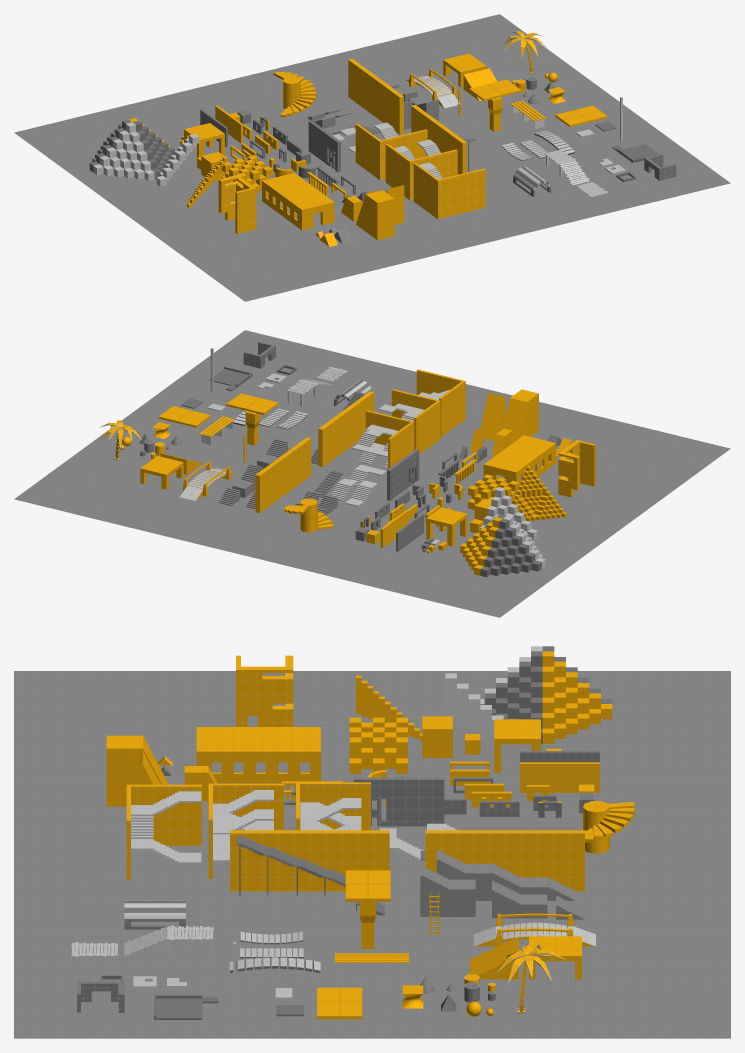
File: TemplateWorld.FBX
The picture shows the model from 3 angles, top to bottom: view 1: azimuth 30°, elevation 25°; view 2: azimuth 150°, elevation 25°; view 3: azimuth 270°, elevation 25°; orthographic projection. The views are drawn at different scales.
Visible parts, largest first — view 1: Ground, WallCorner (×3), WallBig (×3), BoxWall (×4), WallBox, WallBigCorner, RampWall, Bridge (×2), StairsRounded, WallWindows, PillarHigh, BoxSquare (+10 smaller); view 2: Ground, WallBig (×4), WallCorner (×3), BoxWall (×3), WallBox, WallBigCorner, SmallBoxWall, Bridge (×2), RampWall, WallWindows, PillarHigh, BigBox (+8 smaller); view 3: Ground, WallBig (×4), BoxWall (×3), WallCorner (×3), WallBox, StairsBox (×3), WallWindows, WallBigCorner, BoxSquare, Bridge (×2), RampWall, PillarHigh (+18 smaller).
Boxes of the visible parts, left/top/right/bottom form: Ground: left=14, top=14, right=730, bottom=301; WallCorner (×3): left=355, top=123, right=485, bottom=219; WallBig (×3): left=215, top=58, right=466, bottom=174; BoxWall (×4): left=89, top=119, right=199, bottom=186; WallBox: left=262, top=173, right=334, bottom=230; WallBigCorner: left=218, top=175, right=256, bottom=233; RampWall: left=356, top=190, right=394, bottom=240; Bridge (×2): left=406, top=69, right=545, bottom=129; StairsRounded: left=273, top=71, right=316, bottom=117; WallWindows: left=308, top=120, right=340, bottom=172; PillarHigh: left=469, top=79, right=521, bottom=131; BoxSquare: left=221, top=155, right=272, bottom=193; Ground: left=14, top=330, right=730, bottom=617; WallBig (×4): left=255, top=391, right=423, bottom=551; WallCorner (×3): left=365, top=369, right=465, bottom=468; BoxWall (×3): left=460, top=487, right=541, bottom=577; WallBox: left=483, top=435, right=556, bottom=492; WallBigCorner: left=558, top=440, right=595, bottom=497; SmallBoxWall: left=513, top=466, right=566, bottom=521; Bridge (×2): left=179, top=416, right=234, bottom=500; RampWall: left=503, top=389, right=538, bottom=442; WallWindows: left=387, top=449, right=419, bottom=500; PillarHigh: left=226, top=393, right=278, bottom=445; BigBox: left=426, top=507, right=467, bottom=546; Ground: left=14, top=671, right=730, bottom=1038; WallBig (×4): left=230, top=751, right=599, bottom=891; BoxWall (×3): left=445, top=651, right=612, bottom=743; WallCorner (×3): left=126, top=782, right=370, bottom=880; WallBox: left=196, top=727, right=320, bottom=783; StairsBox (×3): left=420, top=864, right=547, bottom=918; WallWindows: left=353, top=777, right=444, bottom=826; WallBigCorner: left=236, top=655, right=293, bottom=726; BoxSquare: left=349, top=717, right=407, bottom=773; Bridge (×2): left=335, top=913, right=595, bottom=976; RampWall: left=106, top=735, right=168, bottom=806; PillarHigh: left=345, top=870, right=390, bottom=948.
Size of the model in its own units: 279 by 23.74 by 230.
